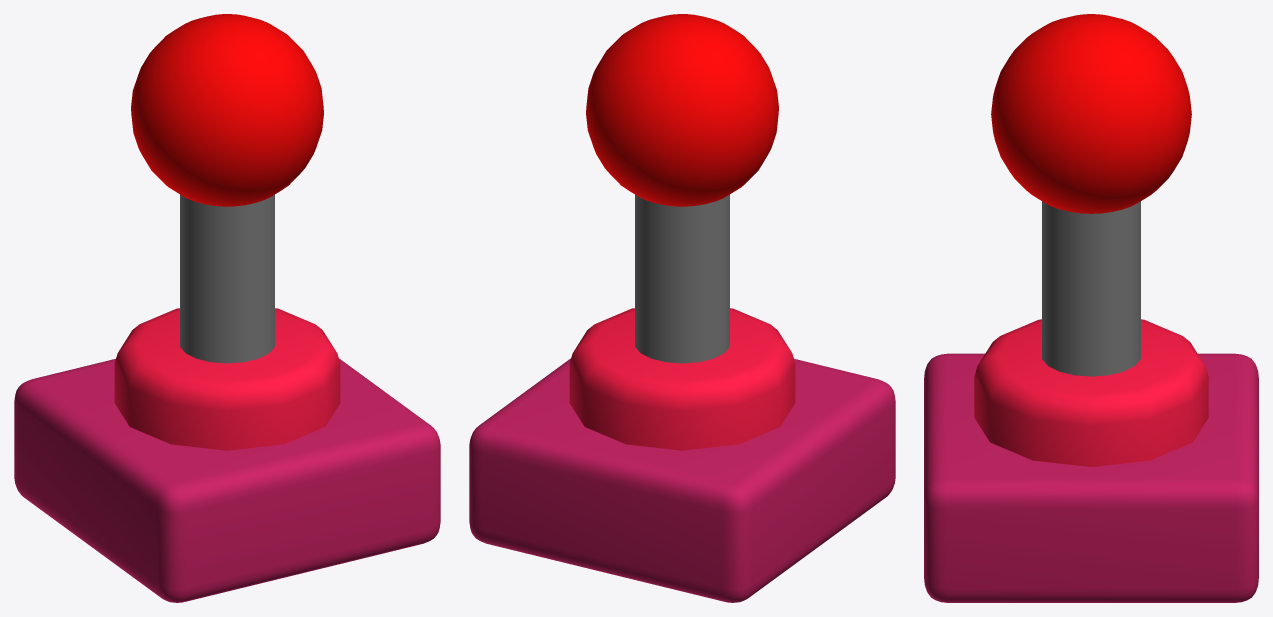
The model's file is Joystick.fbx.
3 renders of one model, left to right at view 1: azimuth 30°, elevation 25°; view 2: azimuth 150°, elevation 25°; view 3: azimuth 270°, elevation 25°, orthographic. The views are drawn at different scales.
Visible parts, largest first — view 1: Box002, Joystick Top001, ChamferCyl001, Joystick Handle001; view 2: Box002, Joystick Top001, ChamferCyl001, Joystick Handle001; view 3: Box002, Joystick Top001, ChamferCyl001, Joystick Handle001.
Boxes of the visible parts, x1=… form: Box002: x1=14, y1=358, x2=440, y2=602; Joystick Top001: x1=131, y1=14, x2=323, y2=206; ChamferCyl001: x1=114, y1=308, x2=340, y2=450; Joystick Handle001: x1=180, y1=194, x2=274, y2=363; Box002: x1=469, y1=358, x2=895, y2=602; Joystick Top001: x1=586, y1=14, x2=778, y2=206; ChamferCyl001: x1=569, y1=308, x2=795, y2=450; Joystick Handle001: x1=635, y1=194, x2=729, y2=363; Box002: x1=924, y1=353, x2=1258, y2=602; Joystick Top001: x1=991, y1=14, x2=1191, y2=213; ChamferCyl001: x1=974, y1=319, x2=1208, y2=466; Joystick Handle001: x1=1042, y1=201, x2=1140, y2=376.
Bounding box in the file's own units: 19.69 × 33.46 × 19.69.
